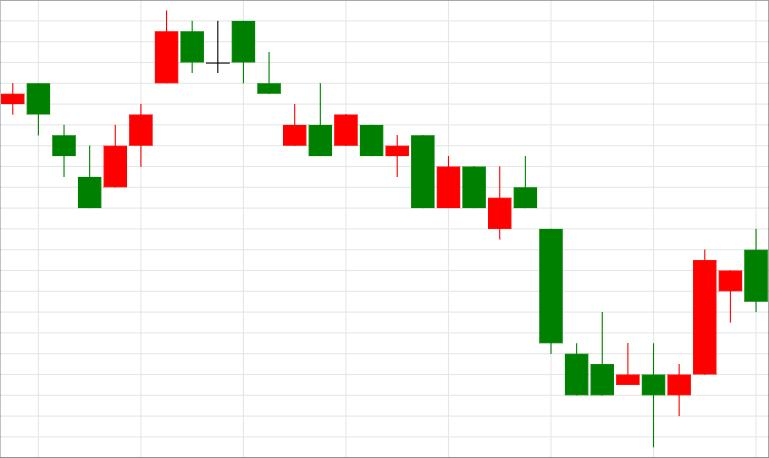inverse_hammer_rise: (513, 156, 614, 396), (232, 21, 332, 156)
three_white_soldiers_rise: (27, 9, 179, 208)
